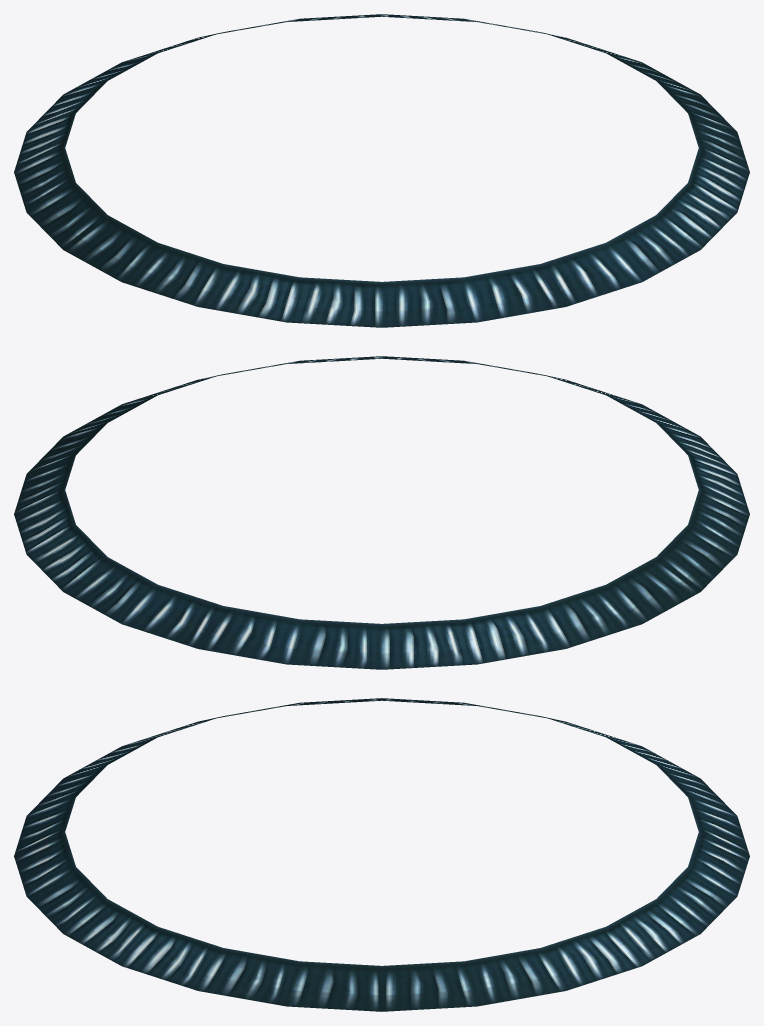
Rendered from ts_tkc005_mesh01.FBX.
3 views of the same model, one above another, from view 1: azimuth 30°, elevation 25°; view 2: azimuth 150°, elevation 25°; view 3: azimuth 270°, elevation 25° (orthographic).
Visible parts, largest first — view 1: ts_tkc005_mesh01; view 2: ts_tkc005_mesh01; view 3: ts_tkc005_mesh01.
Boxes of the visible parts, x1=… form: ts_tkc005_mesh01: x1=14, y1=14, x2=749, y2=327; ts_tkc005_mesh01: x1=14, y1=356, x2=749, y2=669; ts_tkc005_mesh01: x1=14, y1=698, x2=749, y2=1011.
Size of the model in its own units: 4.21 by 0.1532 by 4.21.
